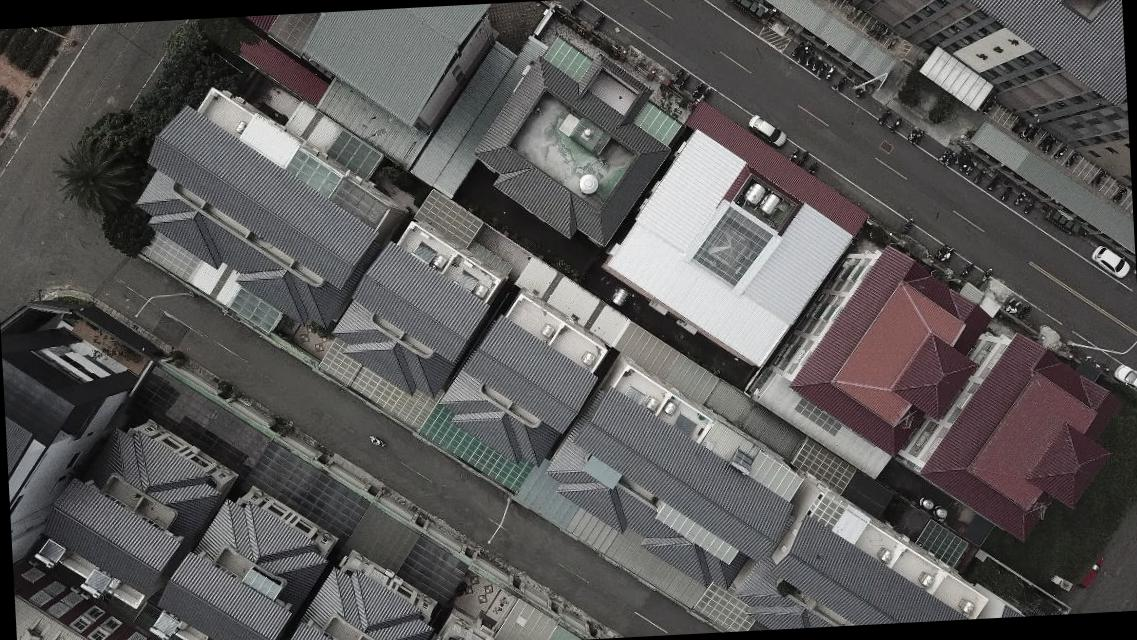vehicle: (746, 114, 791, 150), (1090, 242, 1130, 280), (1112, 359, 1136, 395), (1078, 556, 1105, 588)
